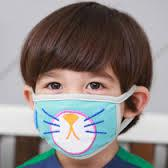OK: (32, 59, 127, 155)
